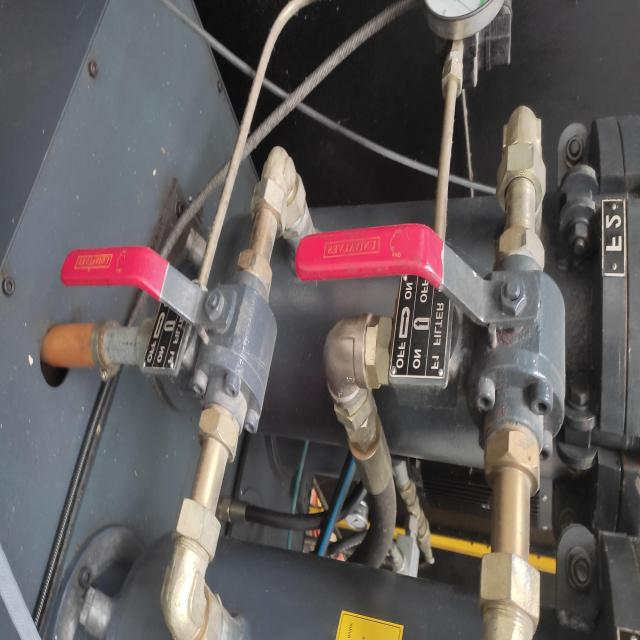closed_valve: (294, 224, 576, 470), (61, 246, 283, 452)
